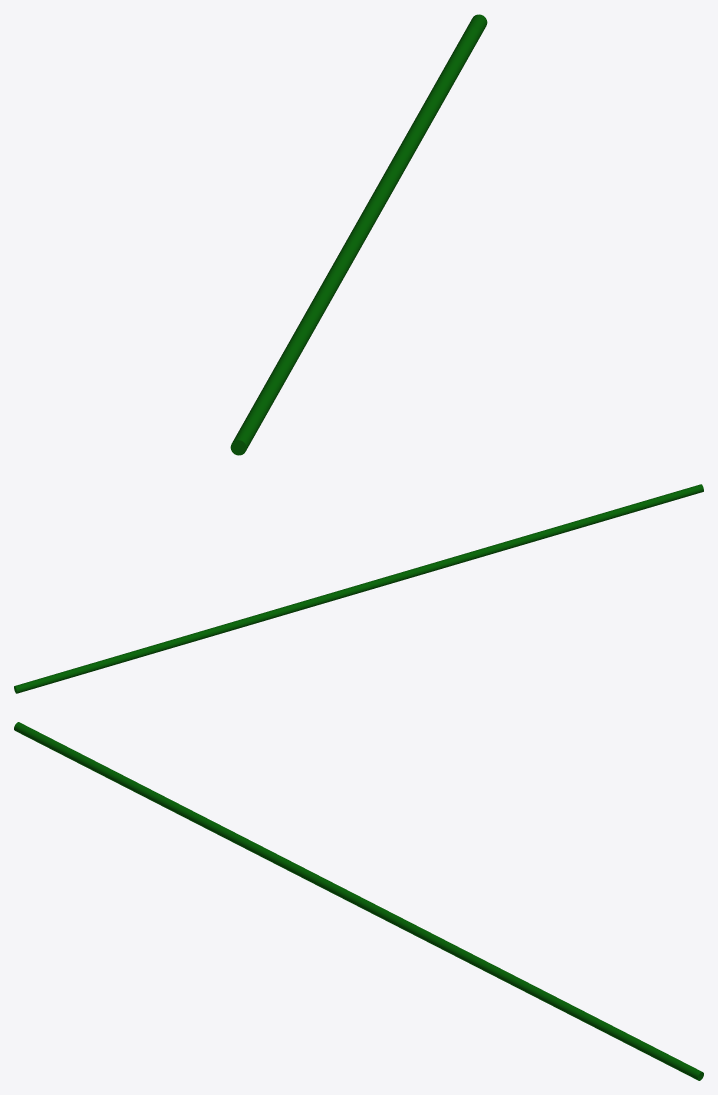
The model's file is Event_194851961_jet_0.fbx.
3 renders of one model, top to bottom at view 1: azimuth 30°, elevation 25°; view 2: azimuth 150°, elevation 25°; view 3: azimuth 270°, elevation 25°, orthographic. The views are drawn at different scales.
Visible parts, largest first — view 1: Model; view 2: Model; view 3: Model.
Boxes of the visible parts, bbox=[...] form: Model: bbox=[230, 14, 487, 455]; Model: bbox=[14, 484, 703, 693]; Model: bbox=[14, 722, 703, 1080].
Bounding box in the file's own units: 2.34 × 0.5492 × 2.84.
